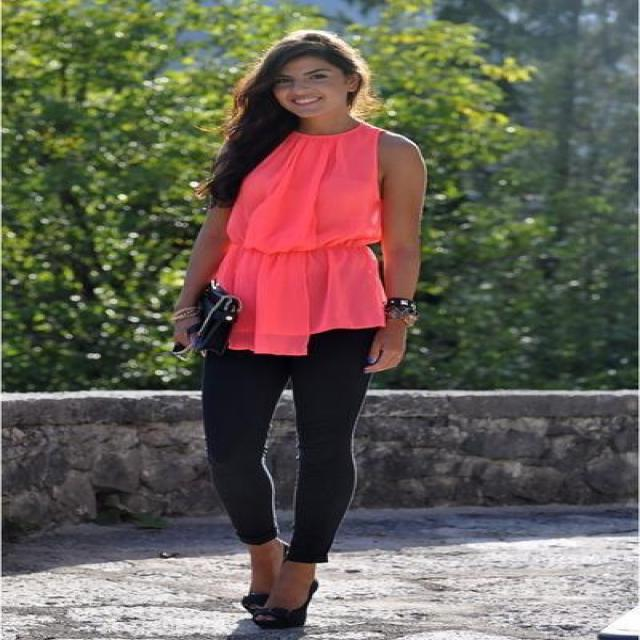bag: (187, 282, 237, 362)
pants: (182, 328, 378, 563)
shirt: (211, 124, 386, 355)
